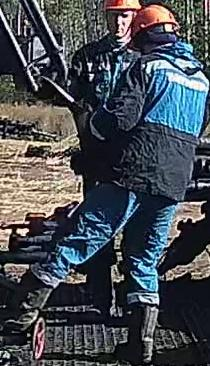gloves: (75, 104, 95, 138)
helmet: (130, 4, 180, 38), (103, 0, 142, 12)
vest: (107, 47, 209, 200), (77, 36, 138, 178)
